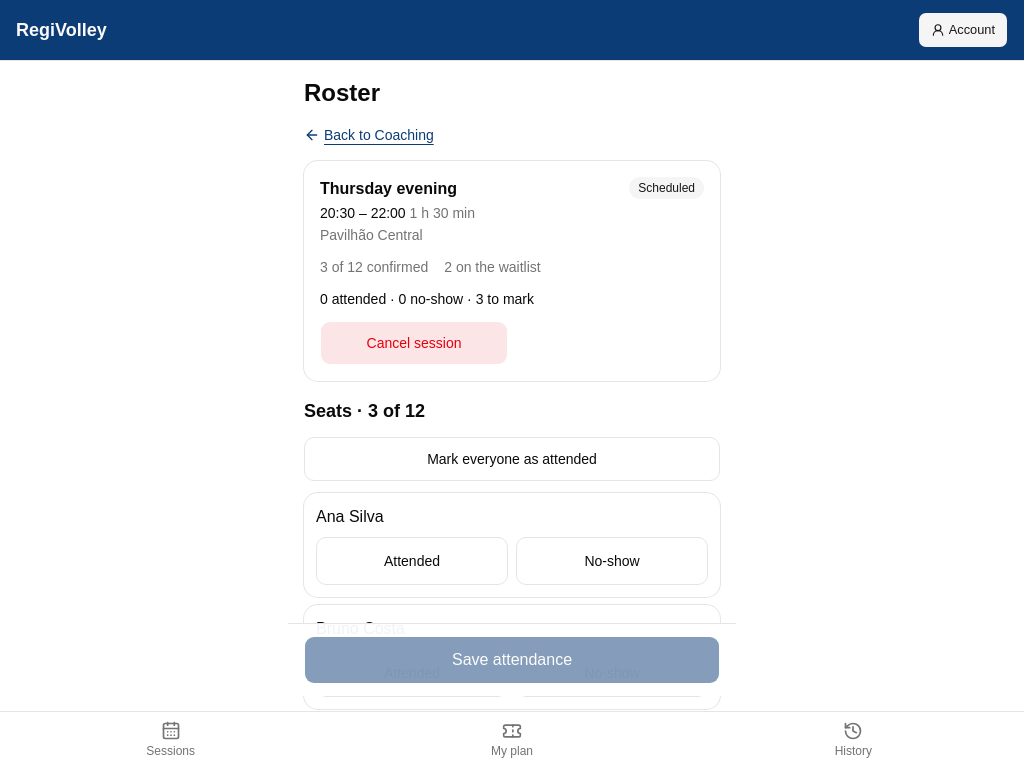
Test: staff actions from the roster › cancels the session with a reason and shows the outcome
Click the button "Cancel session": (414, 343) [320, 321, 508, 365]
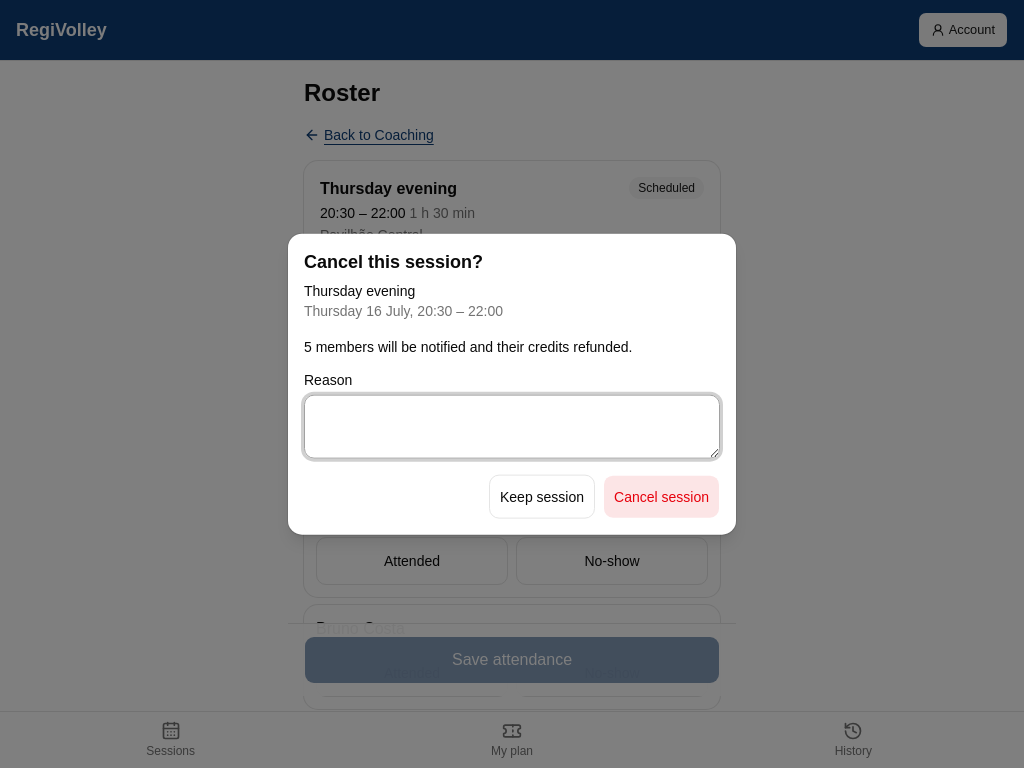
expect the dialog "Cancel this session?" shows "5 members will be notified and their credits refunded.": met, box [304, 338, 632, 354]
In the text box labelled "Reason": (512, 426) [304, 394, 720, 458], type "No referee"
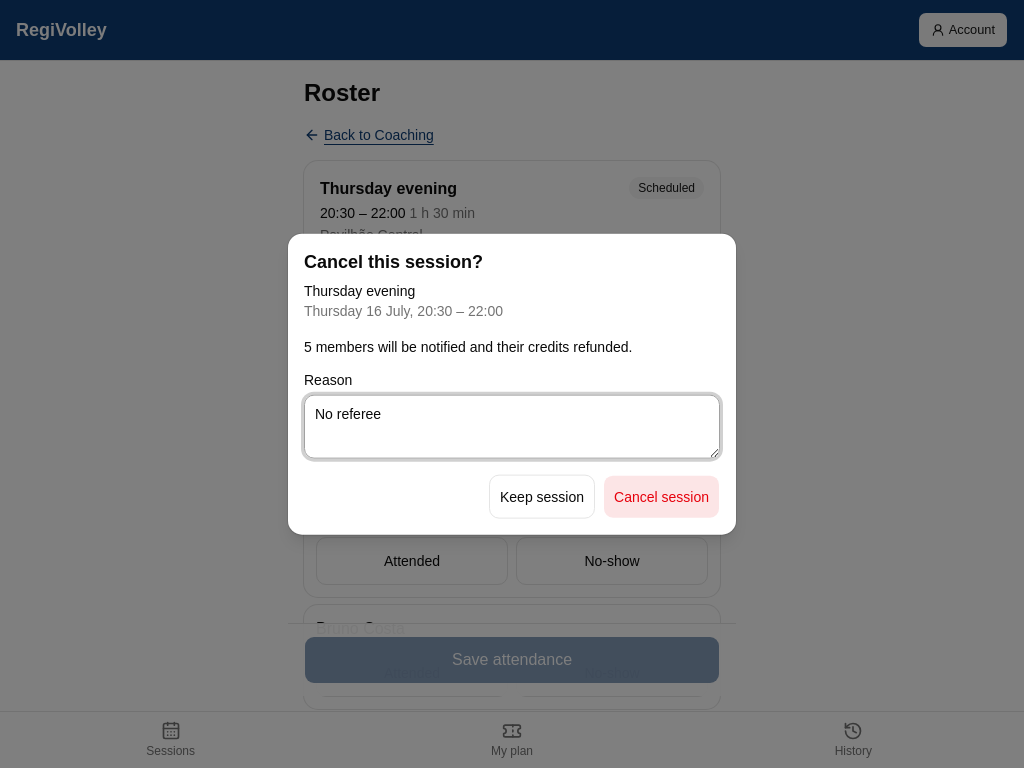
Click the button "Cancel session": (662, 496) [603, 474, 720, 518]
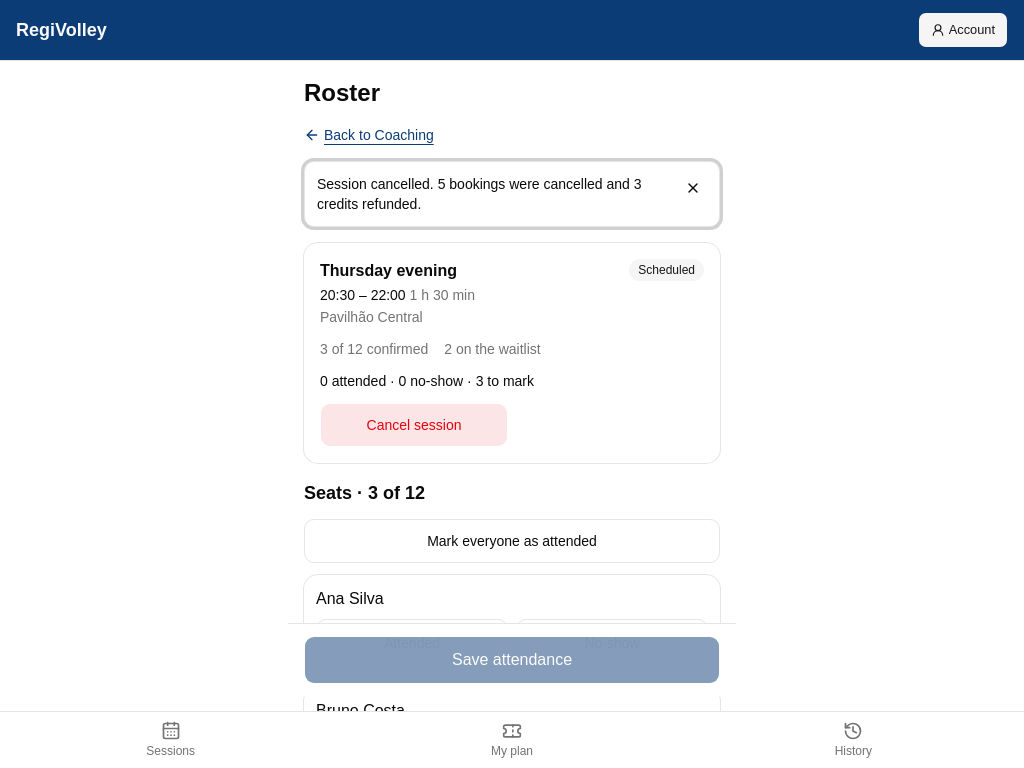
expect the message reads "Session cancelled. 5 bookings were cancelled and 3 credits refunded.": met, box [317, 176, 642, 212]
